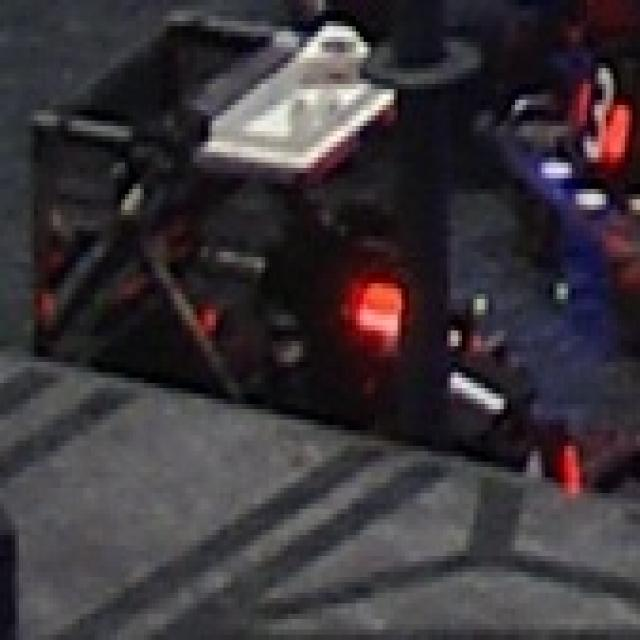R3: (568, 52, 636, 168)
